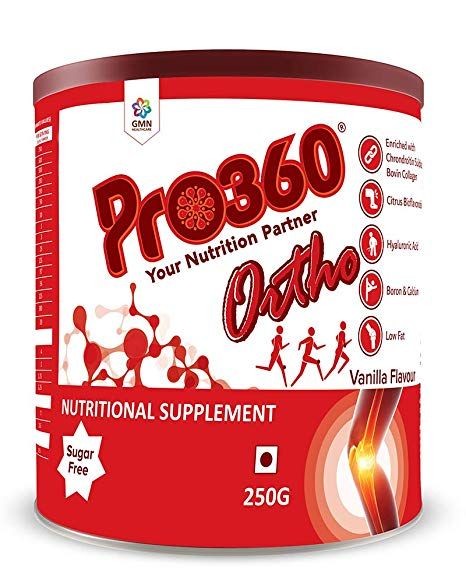nonveg_red: (254, 444, 279, 474)
